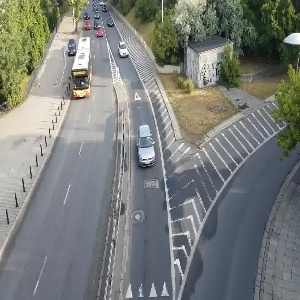bus: (70, 34, 96, 97)
car: (131, 122, 169, 175)
